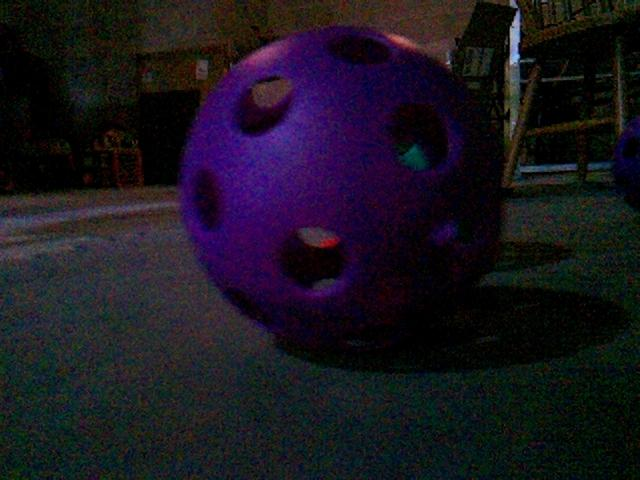Purple: (175, 27, 500, 352), (610, 115, 640, 212)
